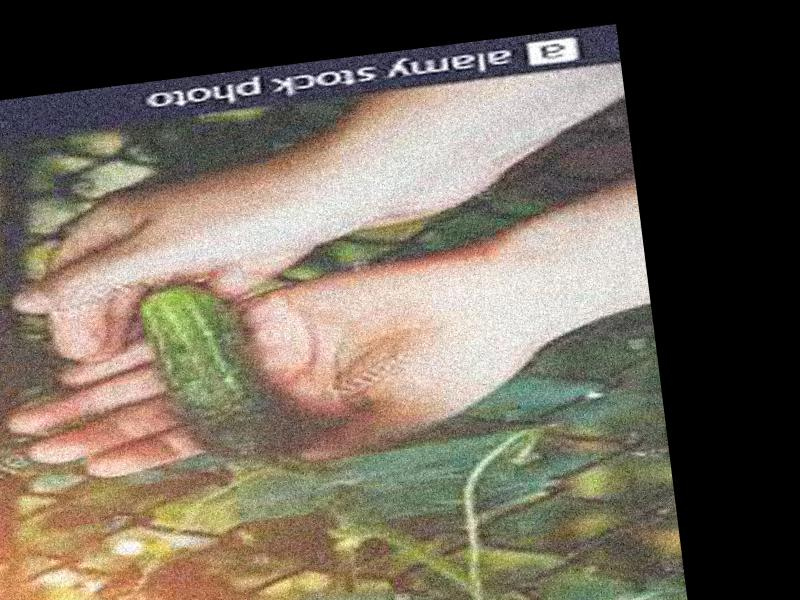Cucumber: (133, 271, 299, 470)
